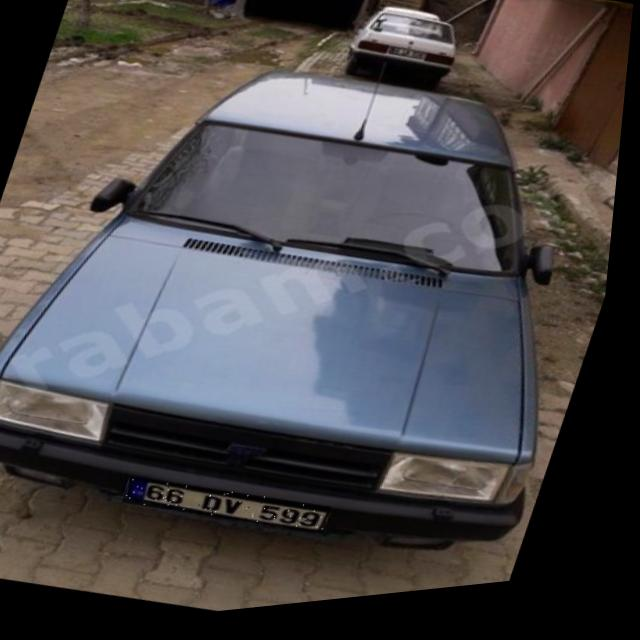license_plate: (128, 463, 346, 558)
